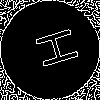H: (25, 25, 80, 74)
